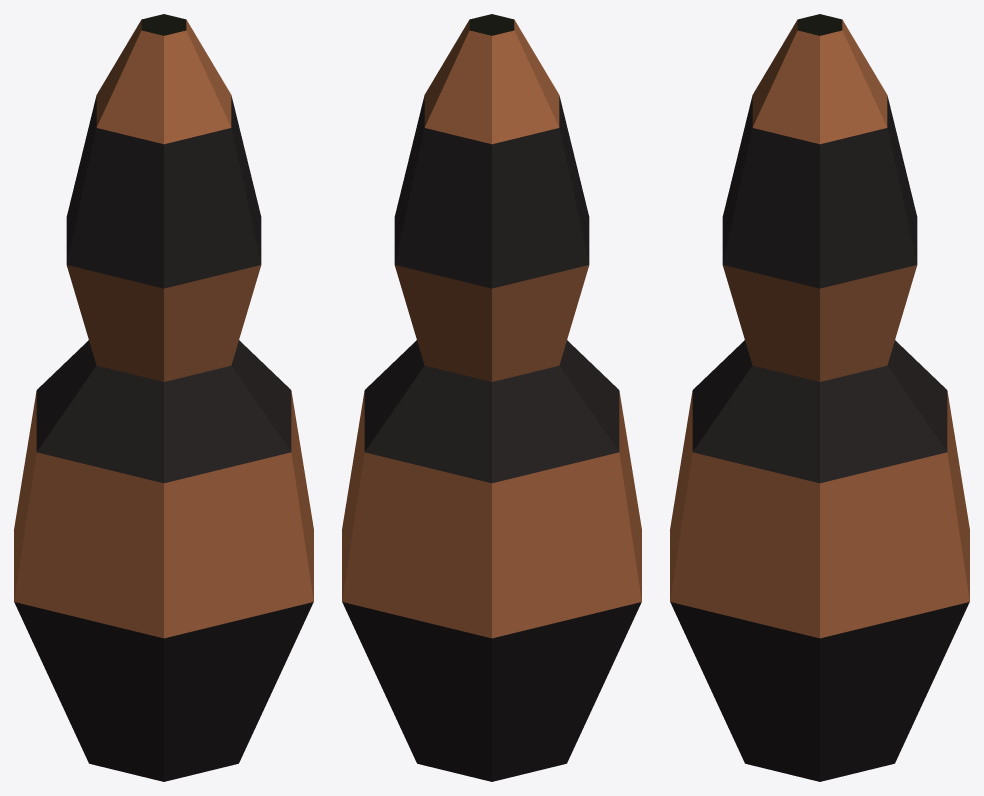
Rendered from vase-14.glb.
3 renders of one model, left to right at view 1: azimuth 30°, elevation 25°; view 2: azimuth 150°, elevation 25°; view 3: azimuth 270°, elevation 25°, orthographic.
Parts seen in each view (by area): view 1: vase_14; view 2: vase_14; view 3: vase_14.
Boxes of the visible parts, x1,y1,x2,y2 form: vase_14: (14,14,313,781); vase_14: (342,14,641,781); vase_14: (670,14,969,781).
Size of the model in its own units: 0.2405 by 0.5524 by 0.2083.
